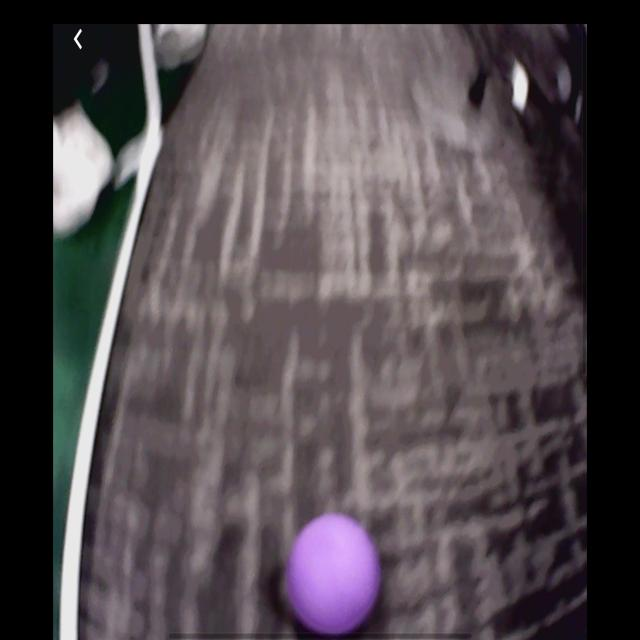ball: (291, 517, 378, 639)
